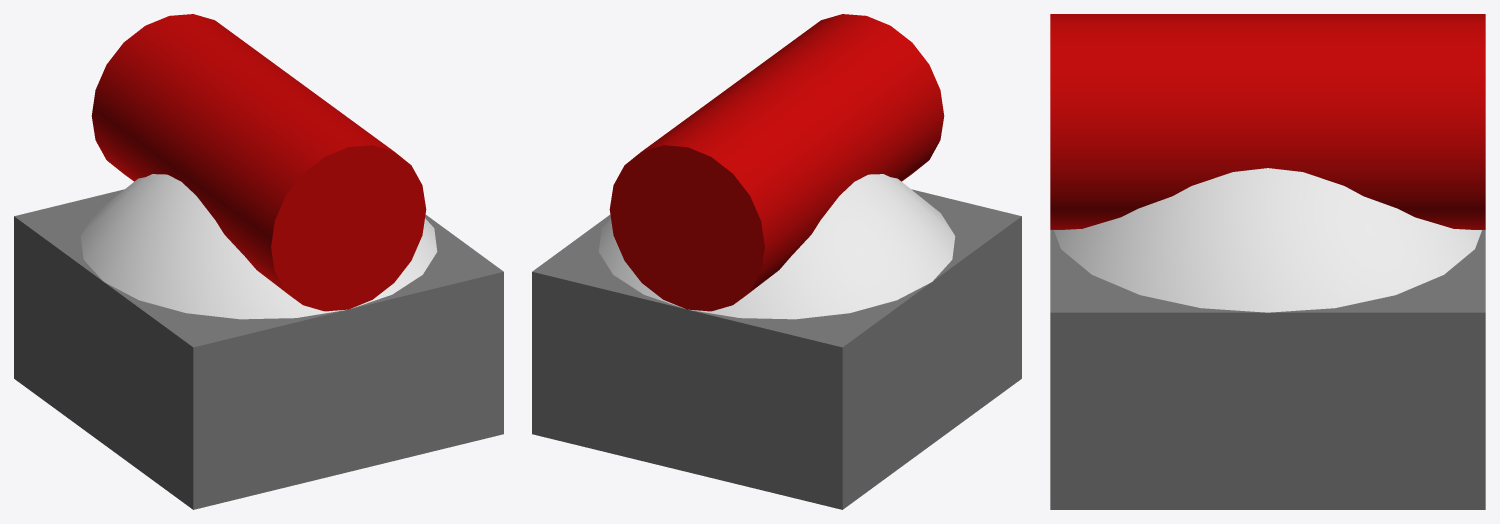
Rendered from Cannon.fbx.
3 views of the same model, side by side, from view 1: azimuth 30°, elevation 25°; view 2: azimuth 150°, elevation 25°; view 3: azimuth 270°, elevation 25° (orthographic). The views are drawn at different scales.
Visible parts, largest first — view 1: pCube2; view 2: pCube2; view 3: pCube2.
Boxes of the visible parts, x1=… form: pCube2: x1=14, y1=14, x2=503, y2=509; pCube2: x1=532, y1=14, x2=1021, y2=509; pCube2: x1=1050, y1=14, x2=1485, y2=509.
Bounding box in the file's own units: 1 × 1 × 1.
